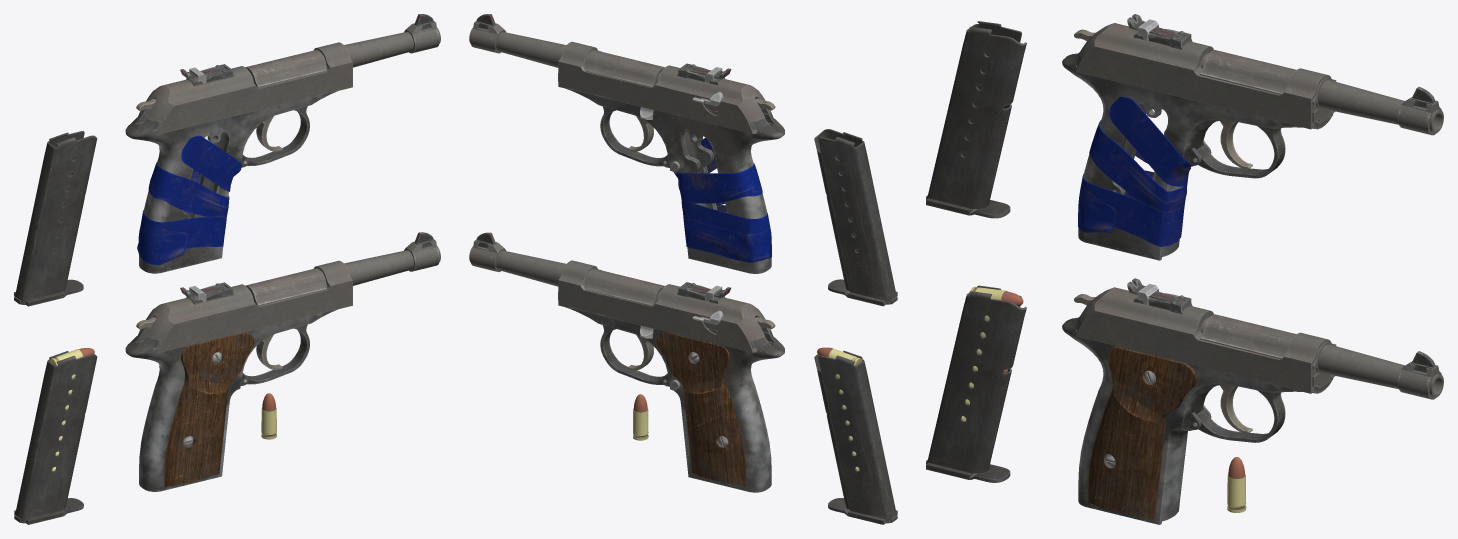
The model's file is service-pistol.glb.
3 views of the same model, side by side, from view 1: azimuth 30°, elevation 25°; view 2: azimuth 150°, elevation 25°; view 3: azimuth 330°, elevation 25° (orthographic). The views are drawn at different scales.
Visible parts, largest first — view 1: service_pistol_pistol_a; view 2: service_pistol_pistol_a; view 3: service_pistol_pistol_a.
Boxes of the visible parts, box(x1,y1,x2,y2) form: service_pistol_pistol_a: box(14, 14, 440, 524); service_pistol_pistol_a: box(469, 14, 897, 524); service_pistol_pistol_a: box(926, 14, 1443, 524).
Size of the model in its own units: 0.3016 by 0.2807 by 0.0318.
1 material, 1 textured.
